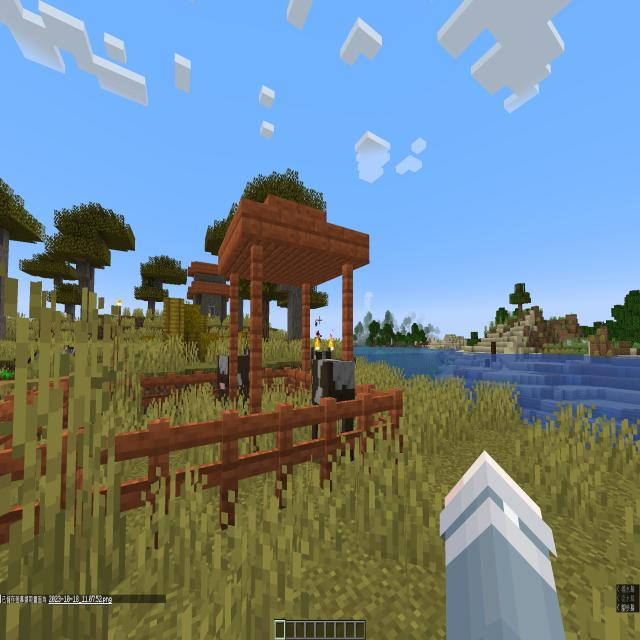cow: (307, 342, 358, 467), (217, 343, 260, 414)
